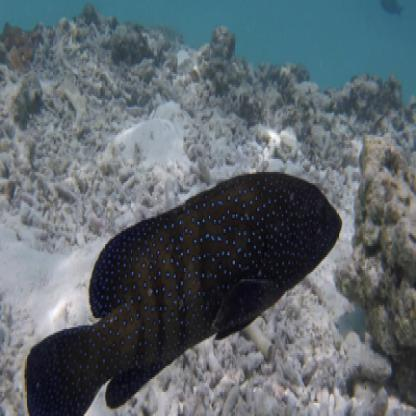grouper: (24, 168, 345, 416)
